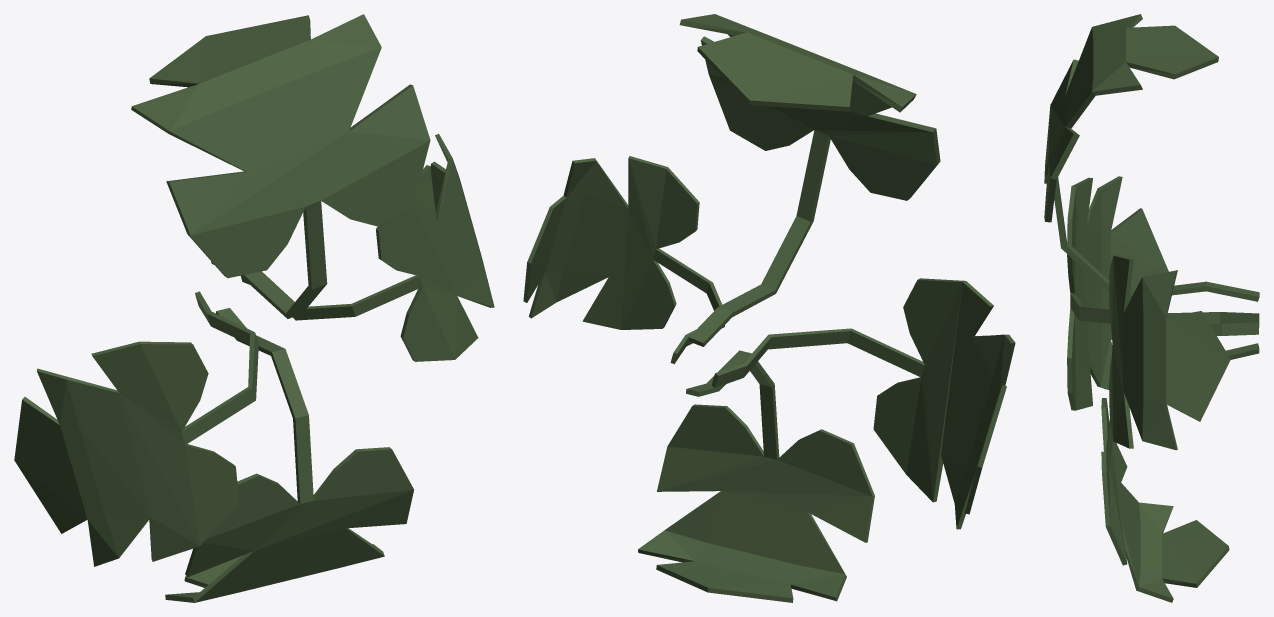
The model's file is plant-leafy-4.obj.
3 views of the same model, side by side, from view 1: azimuth 30°, elevation 25°; view 2: azimuth 150°, elevation 25°; view 3: azimuth 270°, elevation 25° (orthographic). The views are drawn at different scales.
Visible parts, largest first — view 1: plant-leafy-4; view 2: plant-leafy-4; view 3: plant-leafy-4.
Part boxes in pixels (<box>): plant-leafy-4: <box>14,14,494,602</box>; plant-leafy-4: <box>523,14,1015,602</box>; plant-leafy-4: <box>1044,14,1259,602</box>.
Bounding box in the file's own units: 99.18 × 110 × 42.
